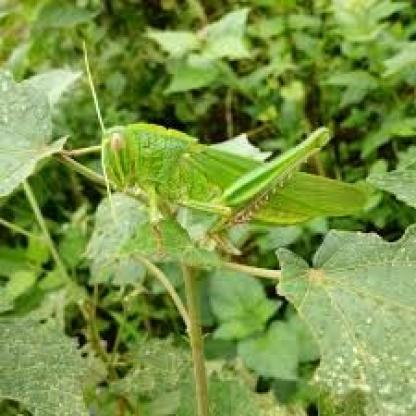grasshopper: (78, 70, 382, 256)
